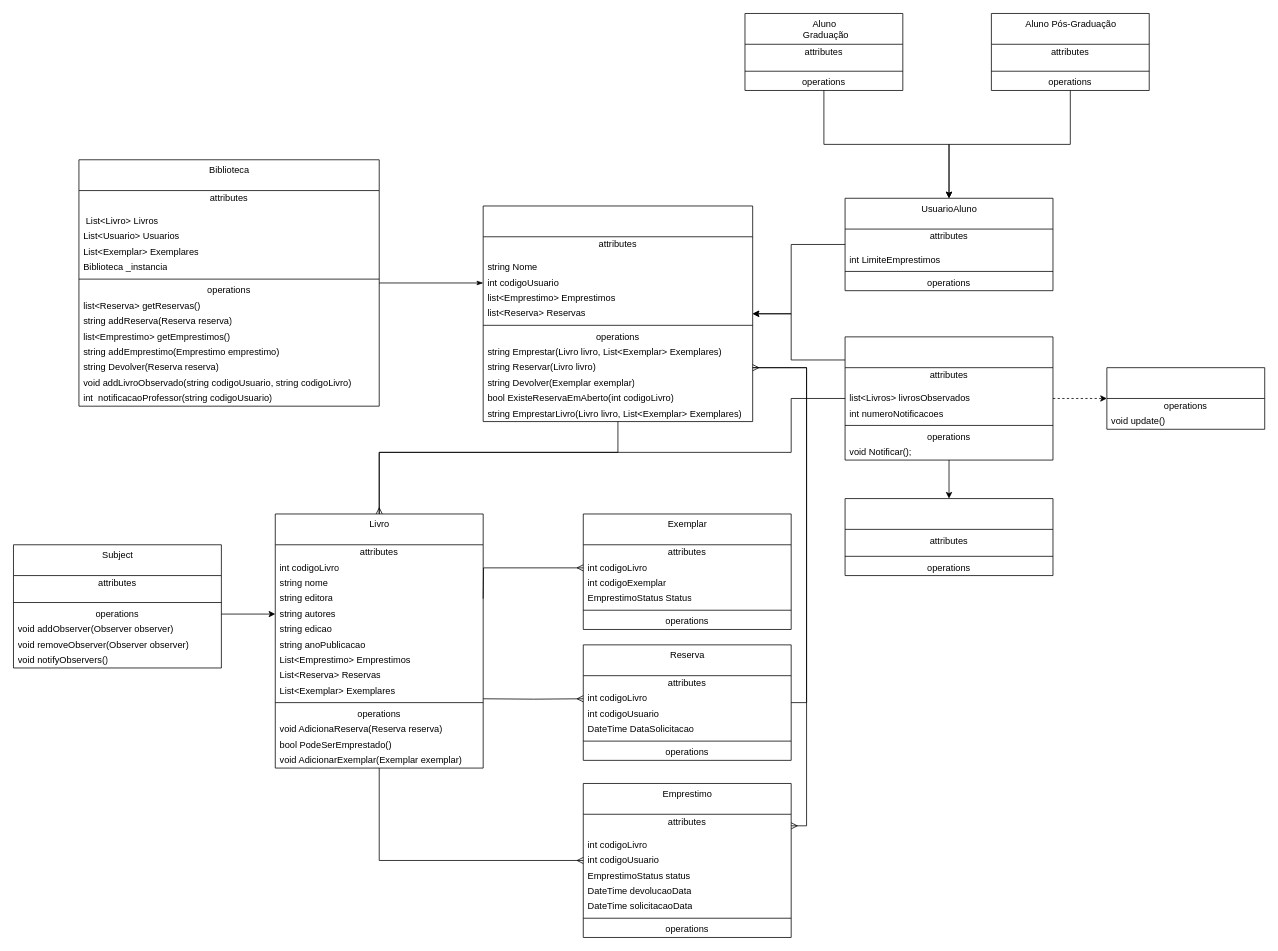
Some shapes in this 1278 by 951 pixel diagram are drawn without their labels. The shapes that lost their labels are listed below. From the top down, each one's box as (x1, y1, x2, y2) in pixels, then its label:
(482, 205, 753, 422): Usuário {abstract}
(844, 336, 1053, 460): usuarioObservador
(1106, 367, 1265, 429): Observer <<interface>>
(844, 498, 1053, 576): Professor
